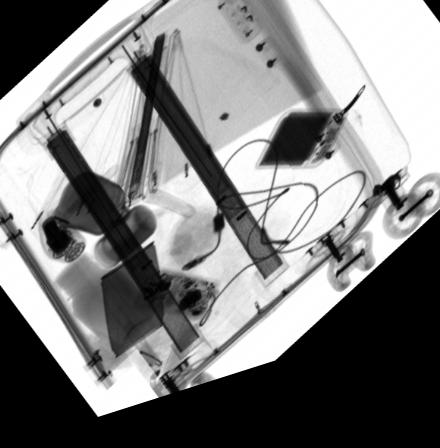Powerbank: (254, 128, 349, 189)
